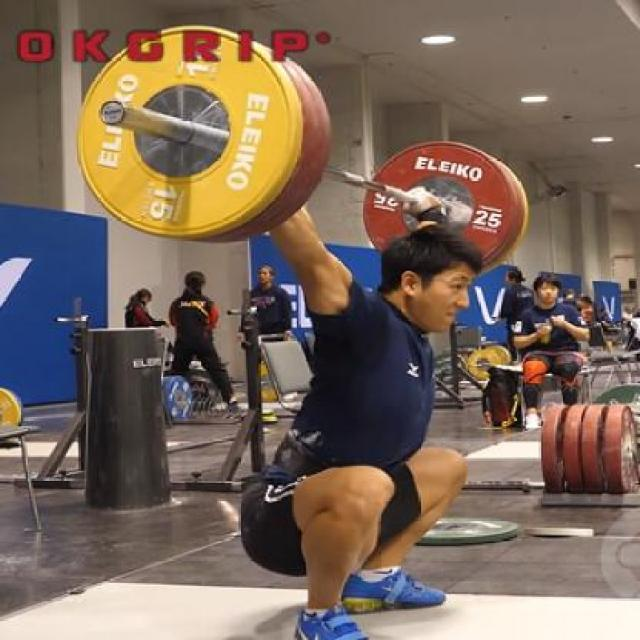Barbell: (96, 98, 132, 128)
